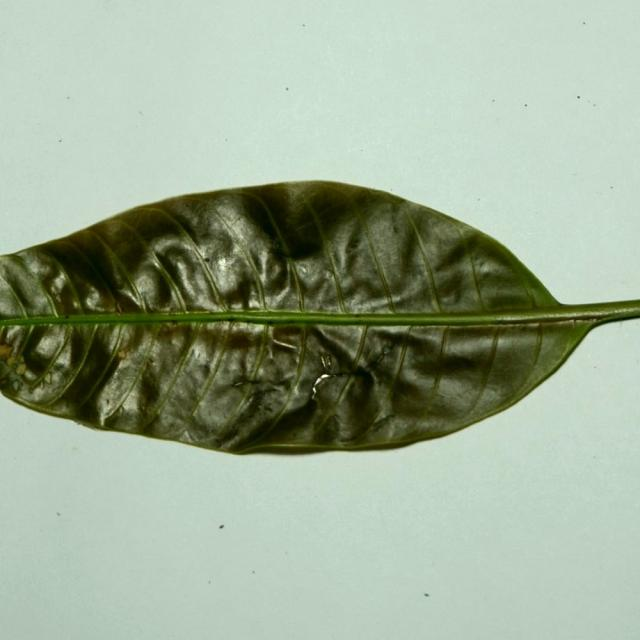Anthracnose: (309, 339, 395, 400), (0, 354, 26, 393), (306, 369, 334, 400), (368, 342, 394, 371), (213, 253, 240, 277), (271, 333, 297, 350), (320, 353, 332, 371), (311, 386, 318, 399), (231, 381, 244, 387)
Mango: (1, 182, 639, 459)
